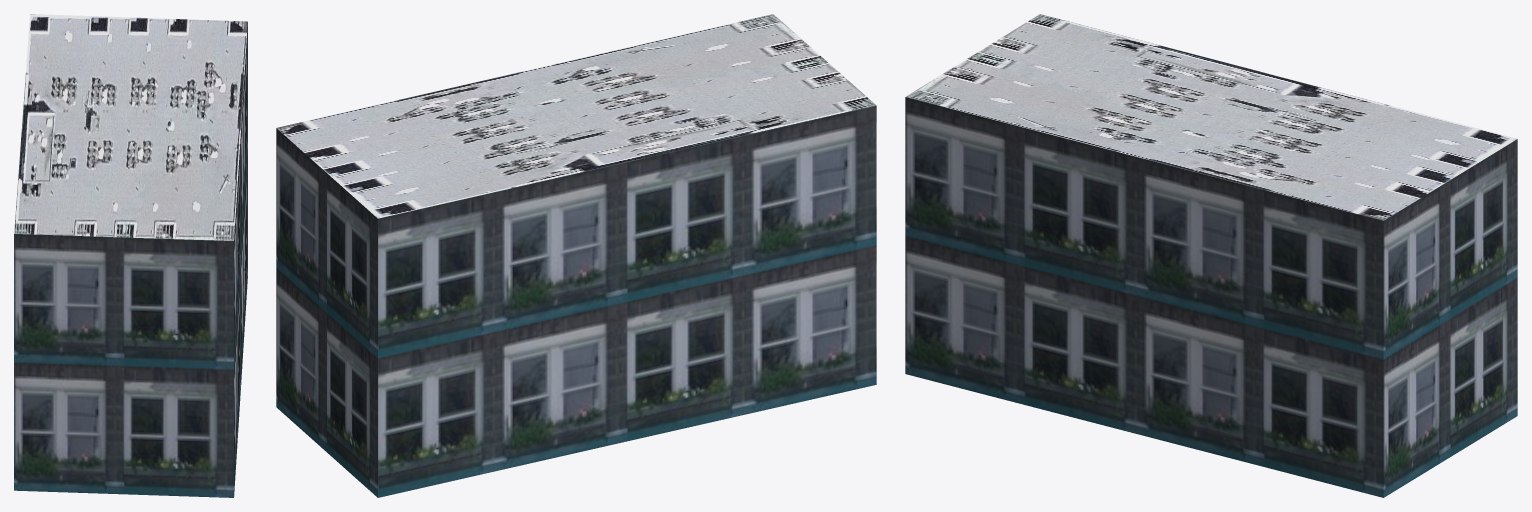
File: ResTex__2221.fbx
3 renders of one model, left to right at view 1: azimuth 30°, elevation 25°; view 2: azimuth 150°, elevation 25°; view 3: azimuth 270°, elevation 25°, orthographic. The views are drawn at different scales.
Parts seen in each view (by area): view 1: CityEngineMaterial_11_m, CityEngineMaterial_m; view 2: CityEngineMaterial_11_m, CityEngineMaterial_m; view 3: CityEngineMaterial_11_m, CityEngineMaterial_m.
Part boxes in pixels (x1,y1,x2,y2): CityEngineMaterial_11_m: (14, 22, 247, 497); CityEngineMaterial_m: (14, 14, 247, 240); CityEngineMaterial_11_m: (276, 105, 876, 497); CityEngineMaterial_m: (277, 14, 876, 218); CityEngineMaterial_11_m: (905, 97, 1517, 497); CityEngineMaterial_m: (906, 14, 1516, 220).
Size of the model in its own units: 9.61 by 6 by 12.01.
Materials: 2 (2 with a texture image).
